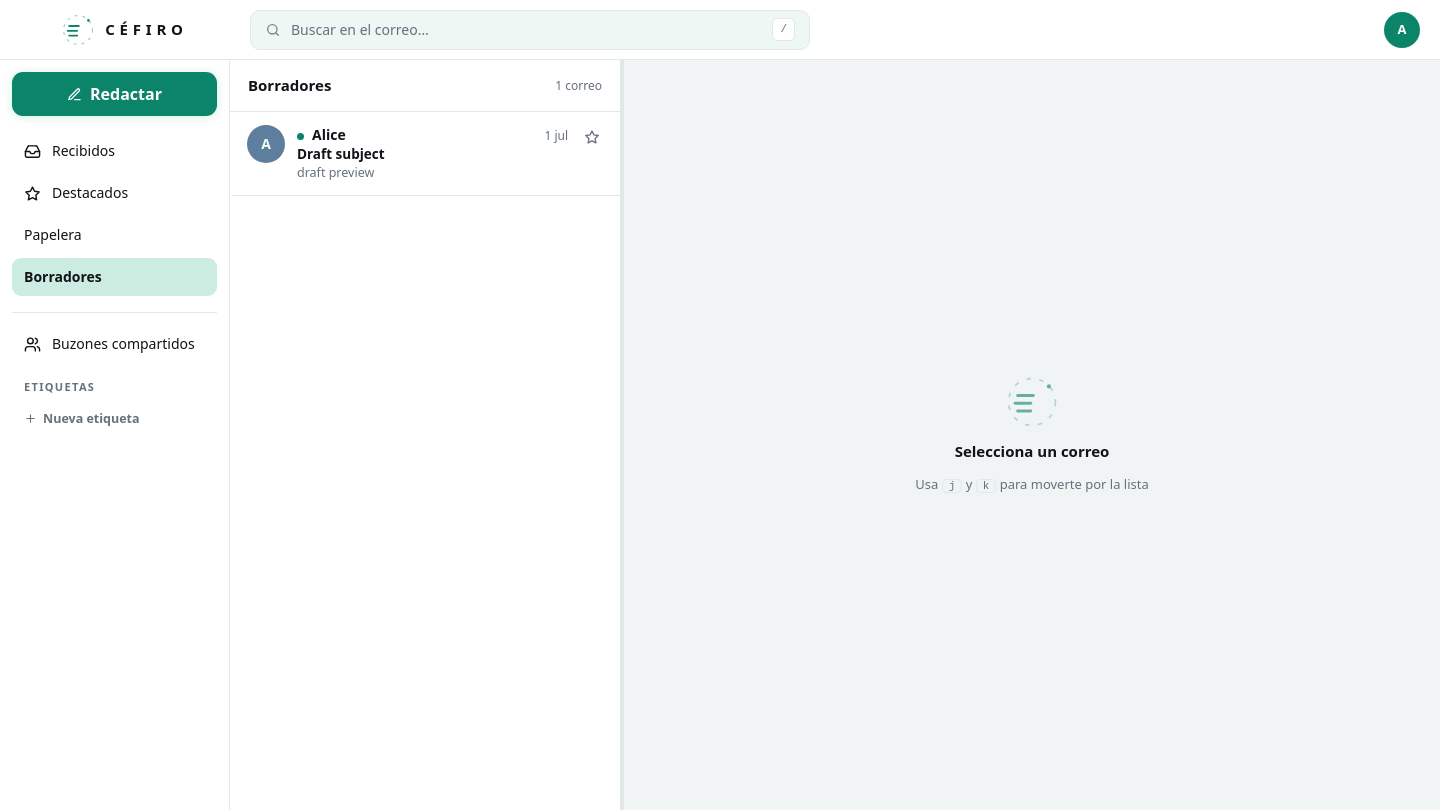
Test case: draft-click routing › clicking a message with the $draft keyword opens the composer instead of the reader
Click the option "Draft subject" at (266, 144), box [247, 125, 568, 182]
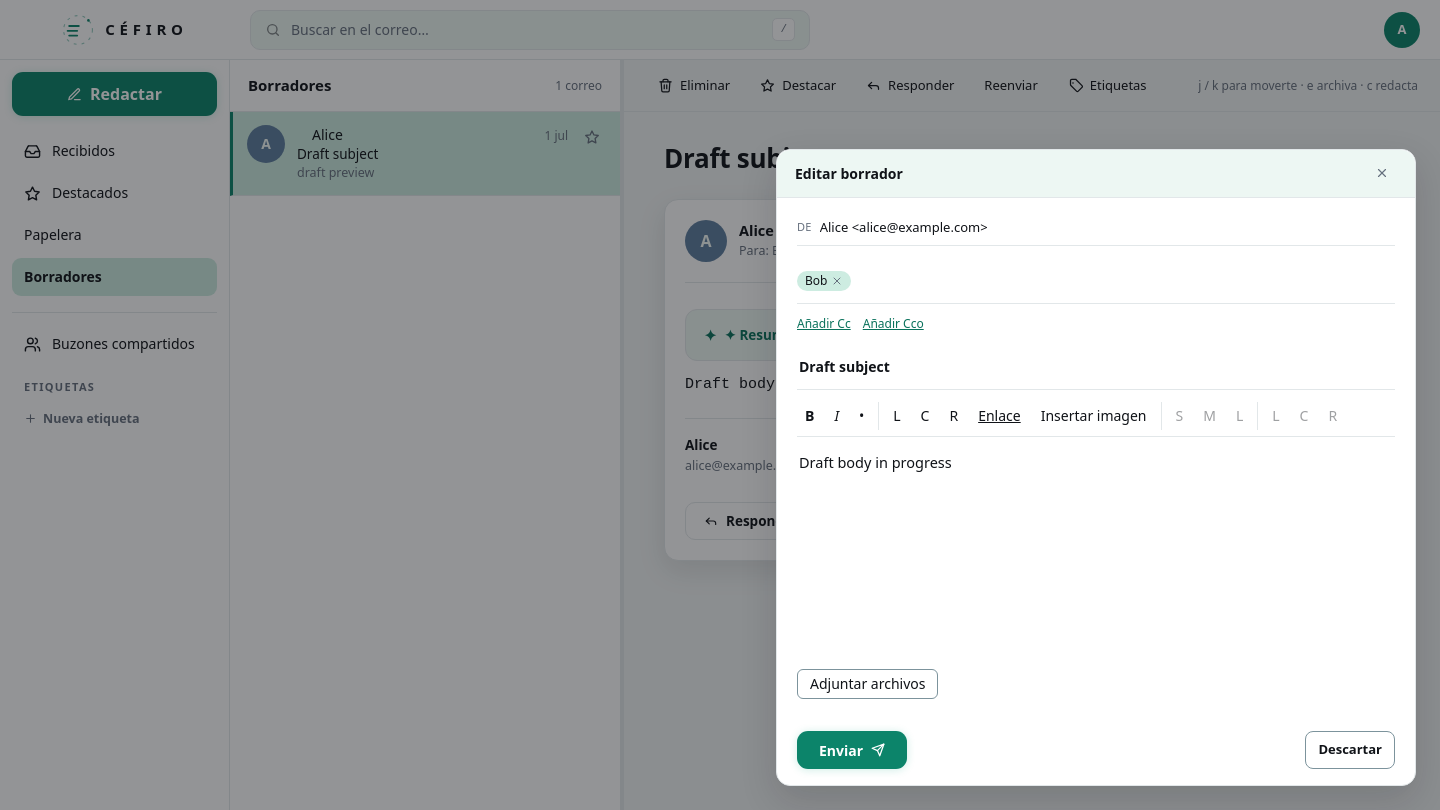
Now the field named "Asunto" holds "Draft subject", box [797, 344, 1395, 390]
